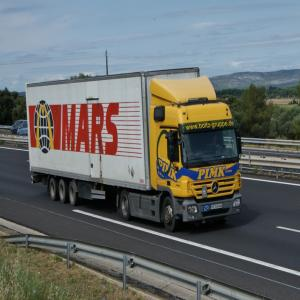Vehicle-registration-plate: (211, 204, 223, 210)
